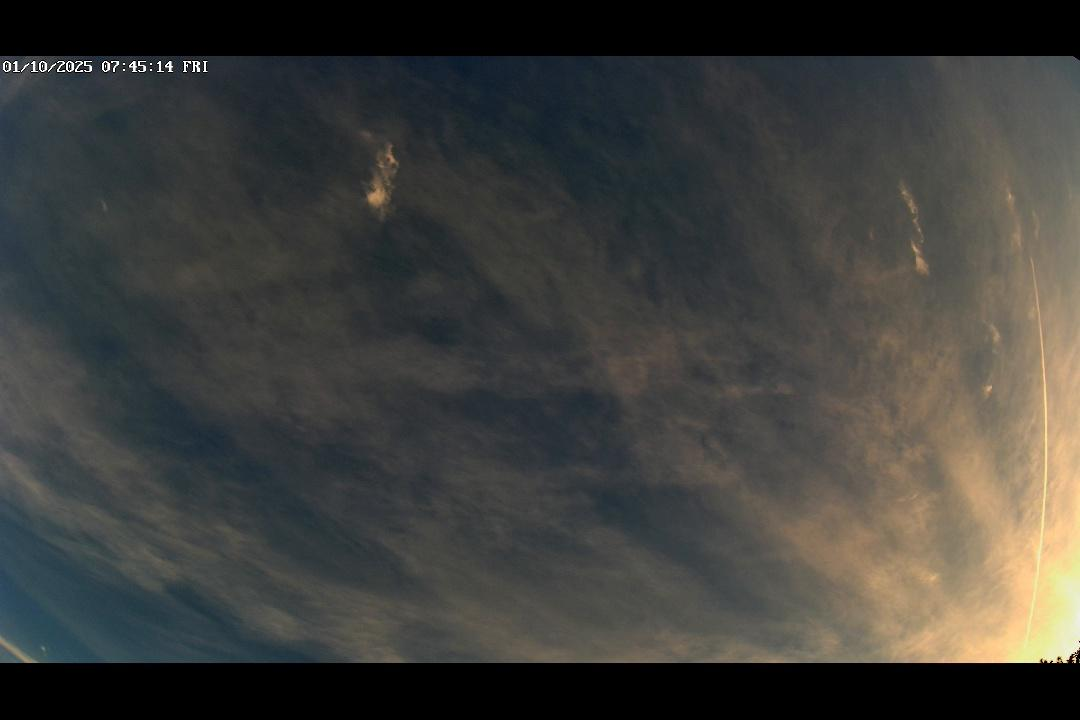Plane: (1024, 257, 1050, 340)
